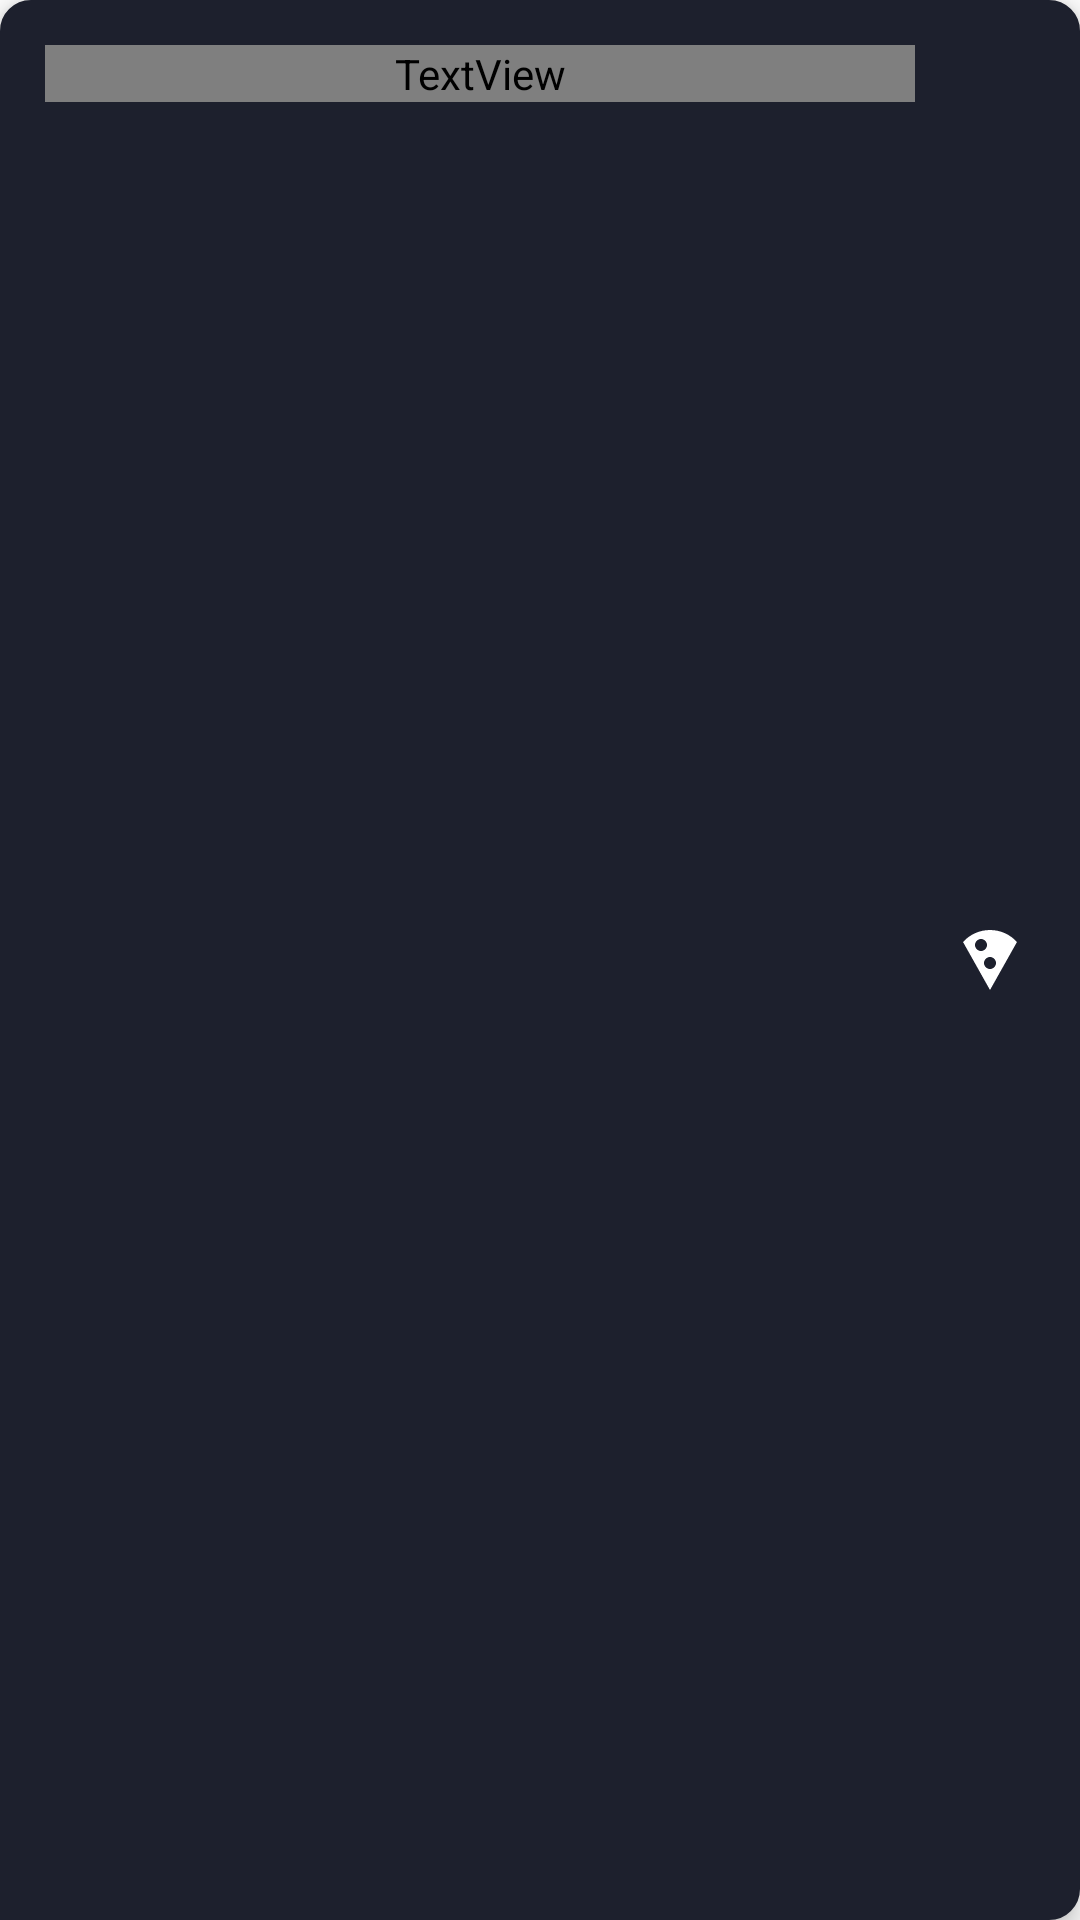

Icon bounding boxes for this 1080px x 1920px phone screenshot, format {"x1": x1, "y1": y1, "x2": x2, "y2": y2}:
local pizza: {"x1": 963, "y1": 930, "x2": 1017, "y2": 990}
